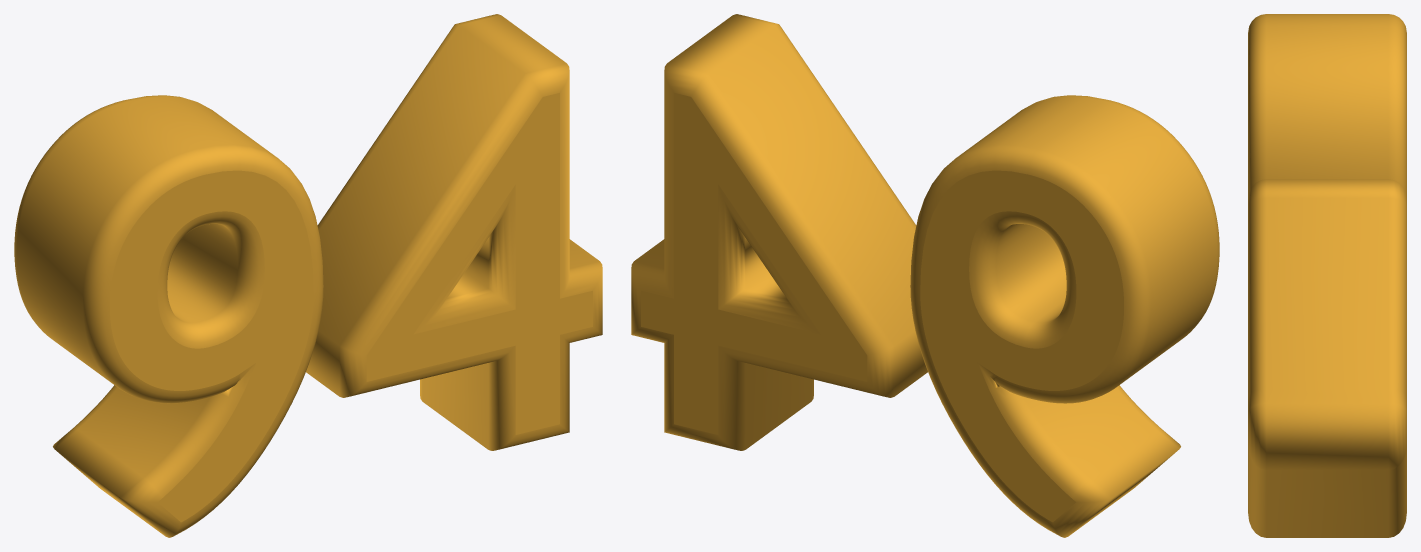
3 renders of one model, left to right at view 1: azimuth 30°, elevation 25°; view 2: azimuth 150°, elevation 25°; view 3: azimuth 270°, elevation 25°, orthographic. The views are drawn at different scales.
Visible parts, largest first — view 1: Text; view 2: Text; view 3: Text.
Part boxes in pixels (<box>): Text: <box>14,14,602,537</box>; Text: <box>631,14,1219,537</box>; Text: <box>1248,14,1406,537</box>.
Bounding box in the file's own units: 90.56 × 63.6 × 26.
